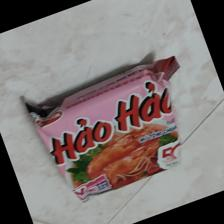Haohao: (23, 56, 189, 197)
